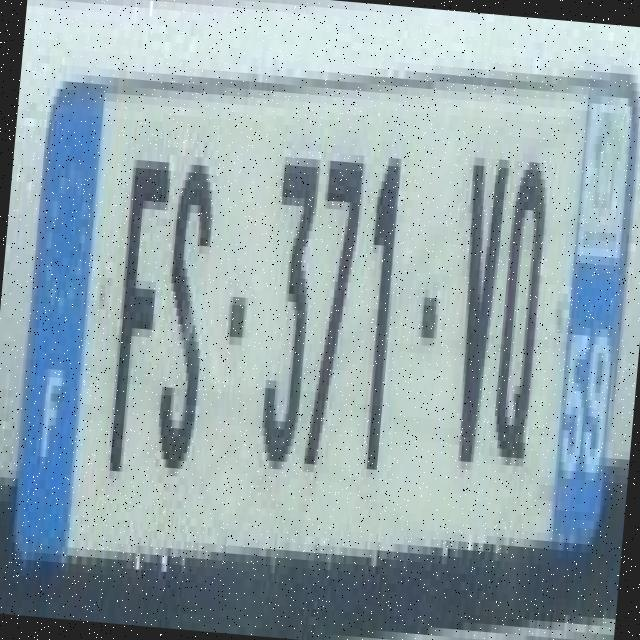EU: (15, 82, 638, 549)
France: (16, 98, 106, 550)
